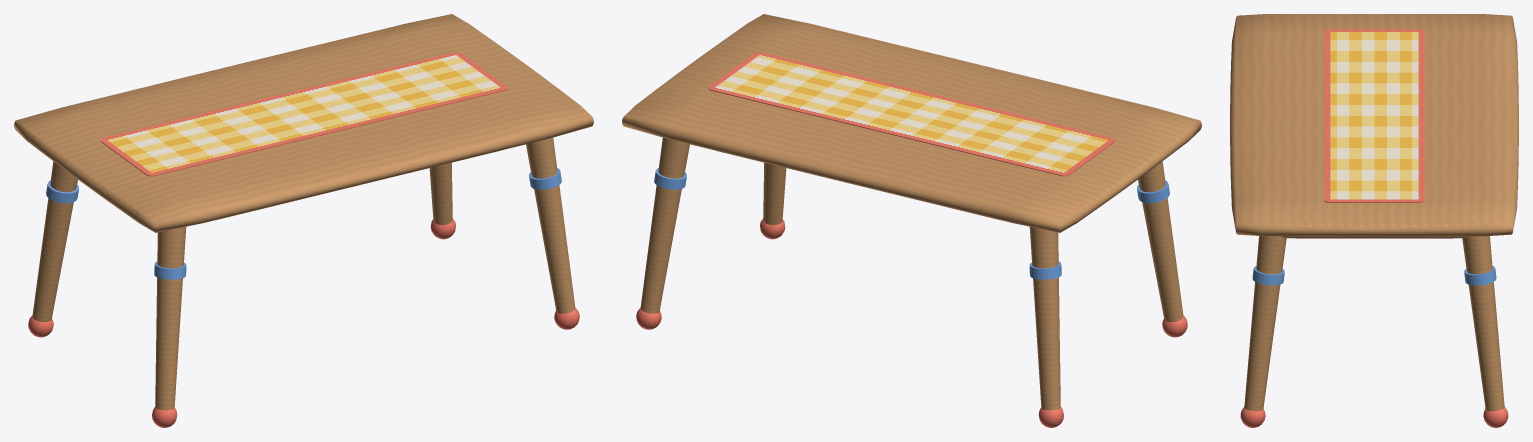
The model's file is 卡通餐桌.glb.
3 renders of one model, left to right at view 1: azimuth 30°, elevation 25°; view 2: azimuth 150°, elevation 25°; view 3: azimuth 270°, elevation 25°, orthographic.
Visible parts, largest first — view 1: DiningTableCartoon_Body, DiningTableCartoon_Runner; view 2: DiningTableCartoon_Body, DiningTableCartoon_Runner; view 3: DiningTableCartoon_Body, DiningTableCartoon_Runner.
Part boxes in pixels (x1,y1,x2,y2): DiningTableCartoon_Body: (14, 14, 593, 427); DiningTableCartoon_Runner: (100, 52, 507, 176); DiningTableCartoon_Body: (622, 14, 1201, 427); DiningTableCartoon_Runner: (708, 52, 1115, 176); DiningTableCartoon_Body: (1230, 14, 1518, 427); DiningTableCartoon_Runner: (1324, 29, 1424, 202).
Size of what is drawn, in the model's own units: 1.62 by 0.753 by 0.9192.
4 materials, 4 textured.
